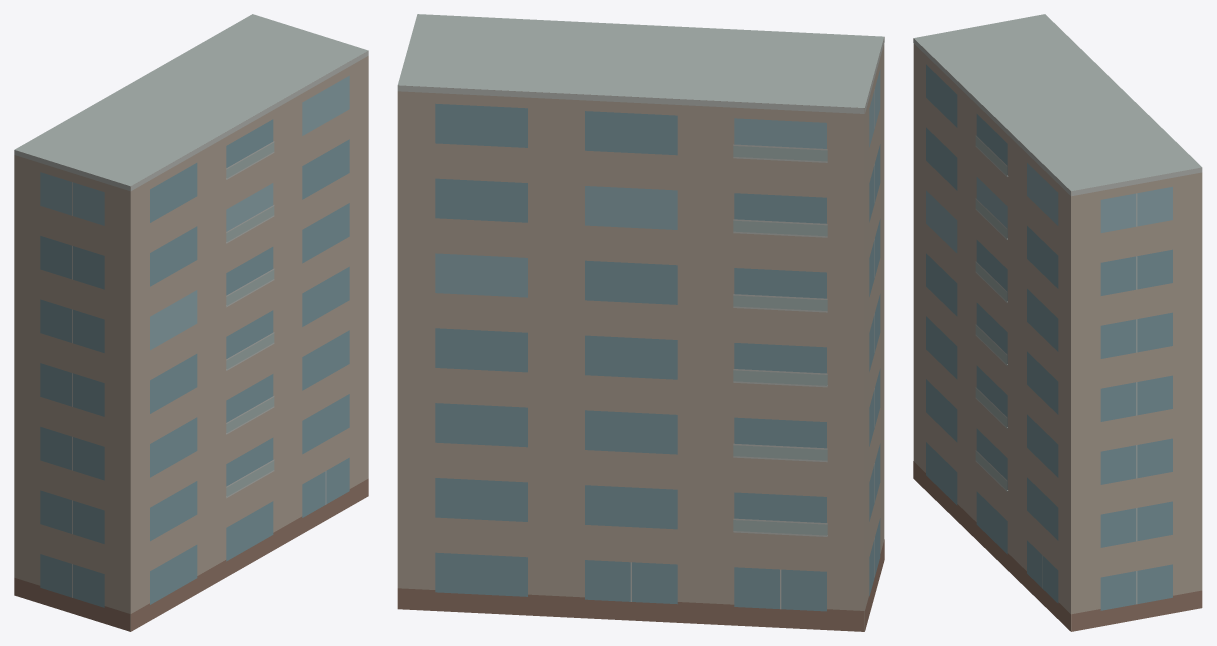
File: survey-upis-32561324.glb
3 renders of one model, left to right at view 1: azimuth 30°, elevation 25°; view 2: azimuth 150°, elevation 25°; view 3: azimuth 270°, elevation 25°, orthographic. The views are drawn at different scales.
Visible parts, largest first — view 1: survey-upis-32561324.tmp; view 2: survey-upis-32561324.tmp; view 3: survey-upis-32561324.tmp.
Boxes of the visible parts, x1,y1,x2,y2 form: survey-upis-32561324.tmp: (14, 14, 368, 631); survey-upis-32561324.tmp: (397, 14, 884, 631); survey-upis-32561324.tmp: (913, 14, 1202, 631).
Bounding box in the file's own units: 18.62 × 21.56 × 12.82.
